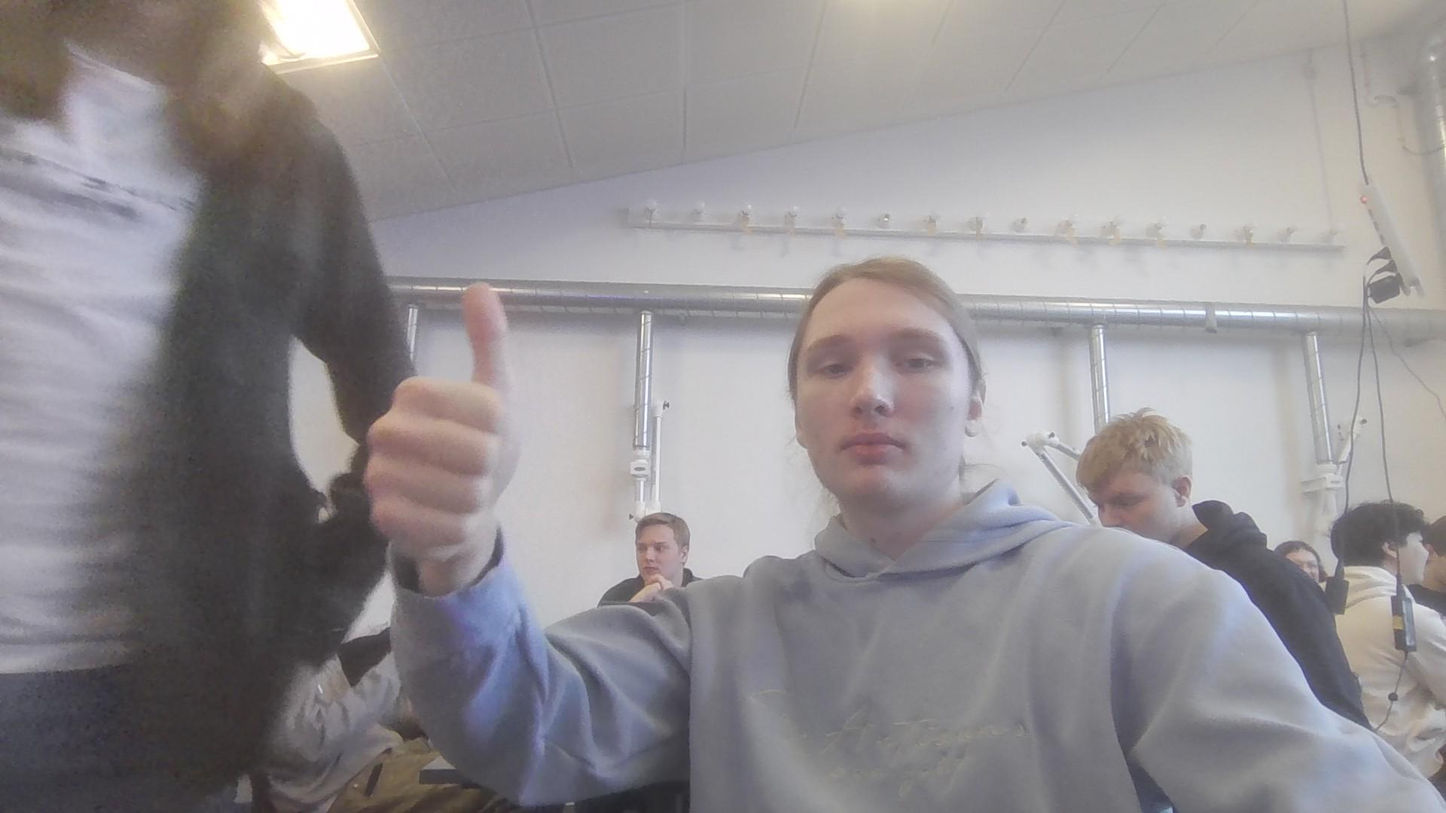thumbs up: (348, 279, 550, 574)
